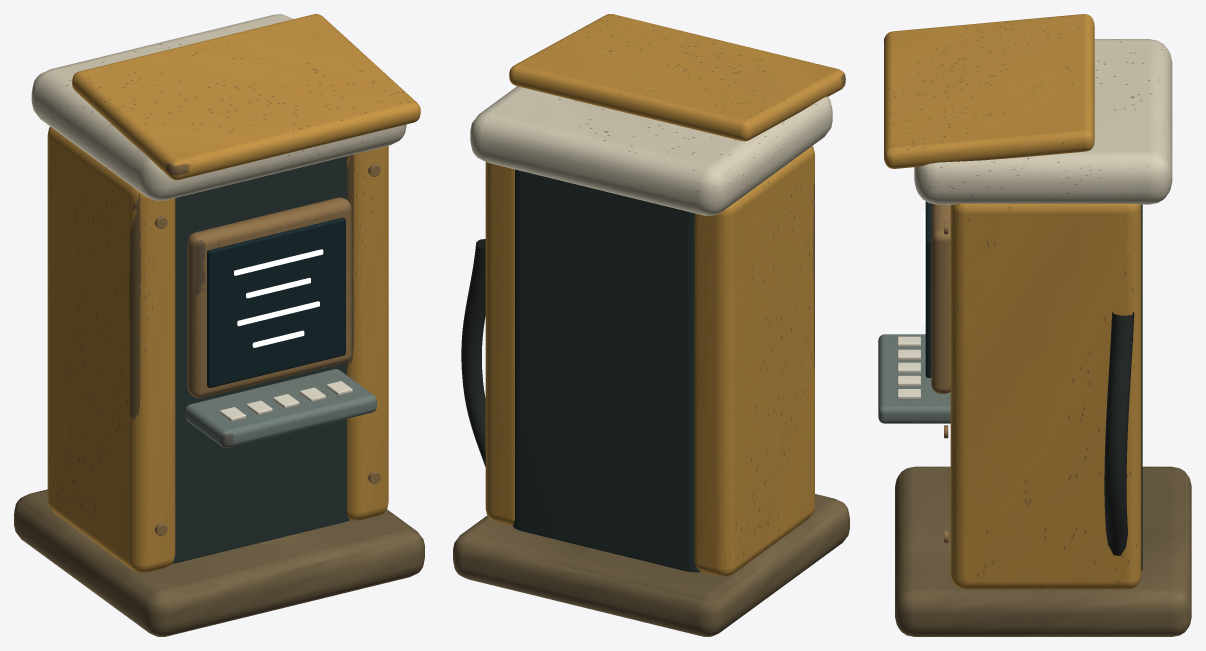
The model's file is prop_market_terminal.glb.
The picture shows the model from 3 angles, left to right: view 1: azimuth 30°, elevation 25°; view 2: azimuth 150°, elevation 25°; view 3: azimuth 270°, elevation 25°; orthographic projection. The views are drawn at different scales.
Visible parts, largest first — view 1: prop_market_terminal_ochre, Terminal chassis, Terminal foundation, Screen, Terminal roof, prop_market_terminal_brass, Terminal keyboard, prop_market_terminal_eye, prop_market_terminal_ivory_light; view 2: prop_market_terminal_ochre, Terminal chassis, Terminal roof, Terminal foundation, Terminal power line; view 3: prop_market_terminal_ochre, Terminal foundation, Terminal roof, Terminal power line, Terminal keyboard, prop_market_terminal_brass, prop_market_terminal_ivory_light, Screen, Terminal chassis.
Boxes of the visible parts, bbox=[...] form: prop_market_terminal_ochre: bbox=[47, 14, 420, 572]; Terminal chassis: bbox=[172, 156, 350, 563]; Terminal foundation: bbox=[14, 489, 424, 636]; Screen: bbox=[207, 217, 345, 387]; Terminal roof: bbox=[31, 14, 406, 200]; prop_market_terminal_brass: bbox=[155, 164, 380, 535]; Terminal keyboard: bbox=[185, 369, 376, 447]; prop_market_terminal_eye: bbox=[234, 249, 323, 347]; prop_market_terminal_ivory_light: bbox=[219, 381, 352, 421]; prop_market_terminal_ochre: bbox=[485, 14, 845, 576]; Terminal chassis: bbox=[513, 169, 700, 572]; Terminal roof: bbox=[470, 86, 832, 215]; Terminal foundation: bbox=[453, 494, 849, 636]; Terminal power line: bbox=[461, 239, 485, 466]; prop_market_terminal_ochre: bbox=[884, 14, 1141, 589]; Terminal foundation: bbox=[895, 466, 1191, 636]; Terminal roof: bbox=[914, 39, 1172, 204]; Terminal power line: bbox=[1104, 311, 1134, 555]; Terminal keyboard: bbox=[878, 334, 950, 423]; prop_market_terminal_brass: bbox=[931, 203, 950, 542]; prop_market_terminal_ivory_light: bbox=[897, 336, 920, 399]; Screen: bbox=[925, 201, 931, 377]; Terminal chassis: bbox=[1141, 204, 1142, 571].
Size of the model in its own units: 1.34 by 2.15 by 1.21.
10 materials, 6 textured.
